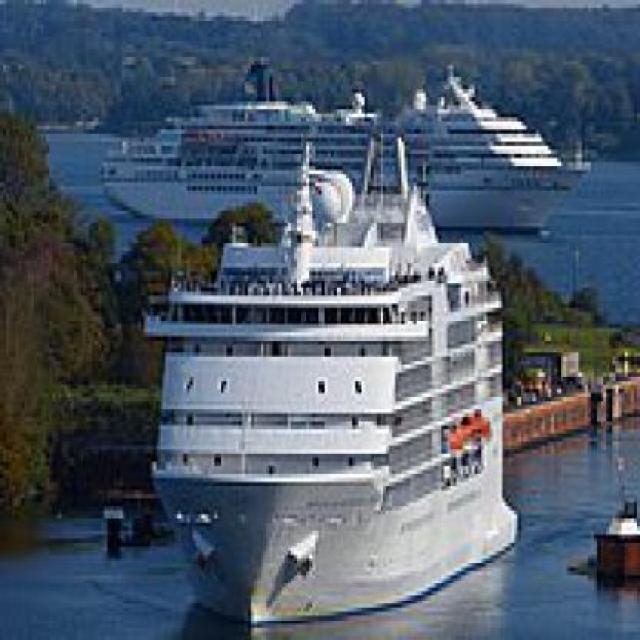cruise: (145, 131, 537, 637), (90, 87, 574, 244)
